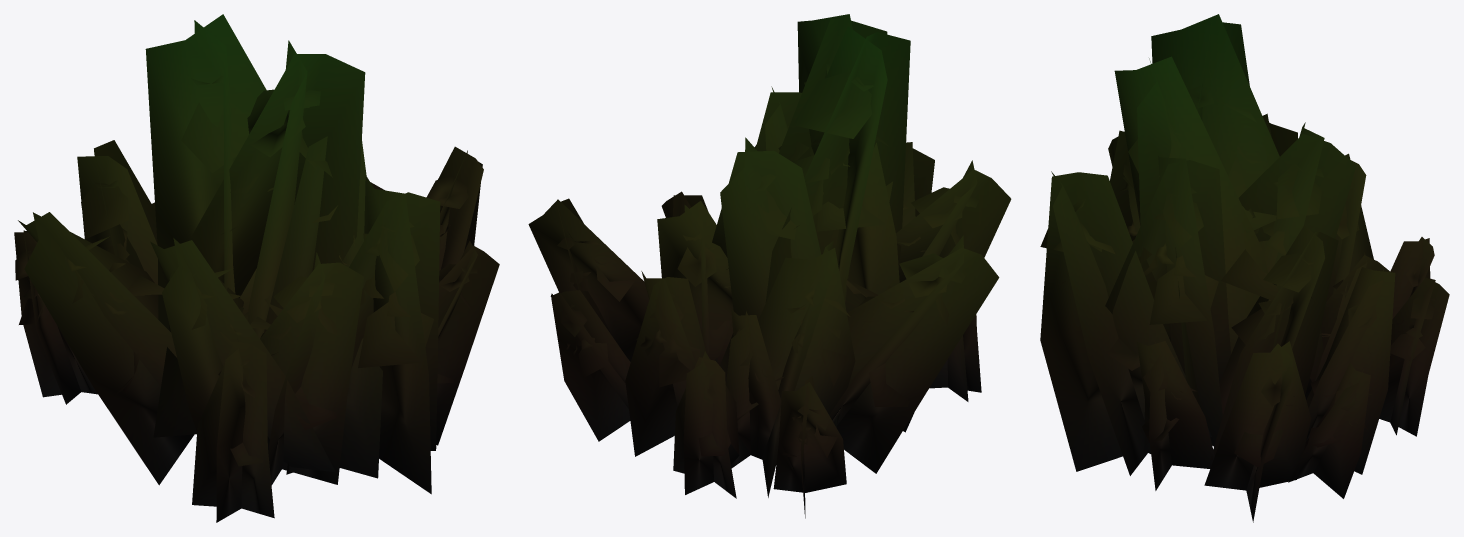
File: FlowersClump_Red B (Optimized).fbx
3 renders of one model, left to right at view 1: azimuth 30°, elevation 25°; view 2: azimuth 150°, elevation 25°; view 3: azimuth 270°, elevation 25°, orthographic. The views are drawn at different scales.
Parts seen in each view (by area): view 1: FlowersClump_Red B (Optimized); view 2: FlowersClump_Red B (Optimized); view 3: FlowersClump_Red B (Optimized).
Part boxes in pixels (x1=…): FlowersClump_Red B (Optimized): x1=14, y1=14, x2=499, y2=522; FlowersClump_Red B (Optimized): x1=528, y1=14, x2=1011, y2=518; FlowersClump_Red B (Optimized): x1=1040, y1=14, x2=1449, y2=522.
Bounding box in the file's own units: 1.25 × 1.15 × 1.04.
